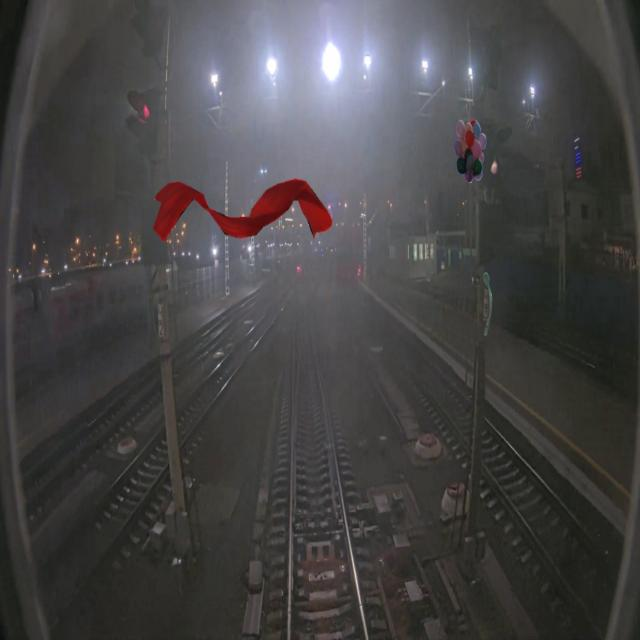balloon: (454, 119, 487, 183)
floating object: (153, 178, 332, 242), (483, 272, 493, 336)
